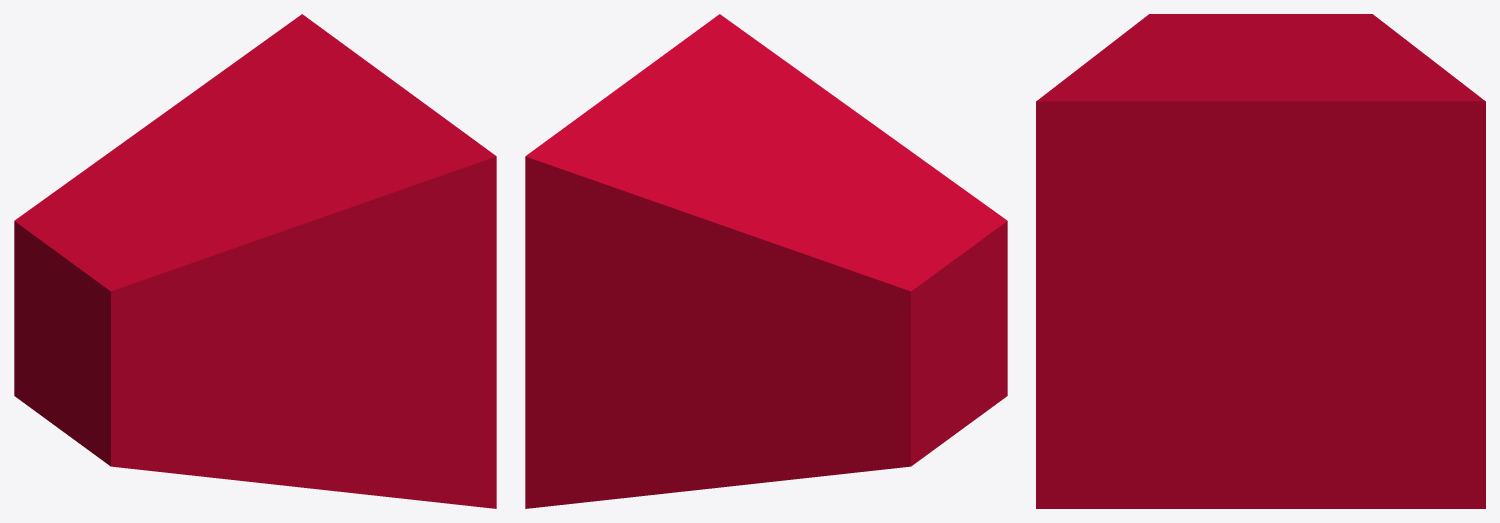
File: camera.dae
3 views of the same model, side by side, from view 1: azimuth 30°, elevation 25°; view 2: azimuth 150°, elevation 25°; view 3: azimuth 270°, elevation 25° (orthographic). The views are drawn at different scales.
Visible parts, largest first — view 1: Cube; view 2: Cube; view 3: Cube.
Part boxes in pixels (left/top/right/bottom): Cube: left=14, top=14, right=496, bottom=508; Cube: left=525, top=14, right=1007, bottom=508; Cube: left=1036, top=14, right=1485, bottom=508.
Bounding box in the file's own units: 2 × 2 × 2.
